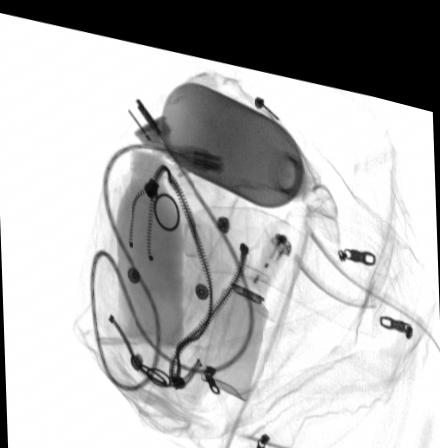Lighter: (245, 216, 295, 283)
Sprayer: (200, 248, 272, 387)
